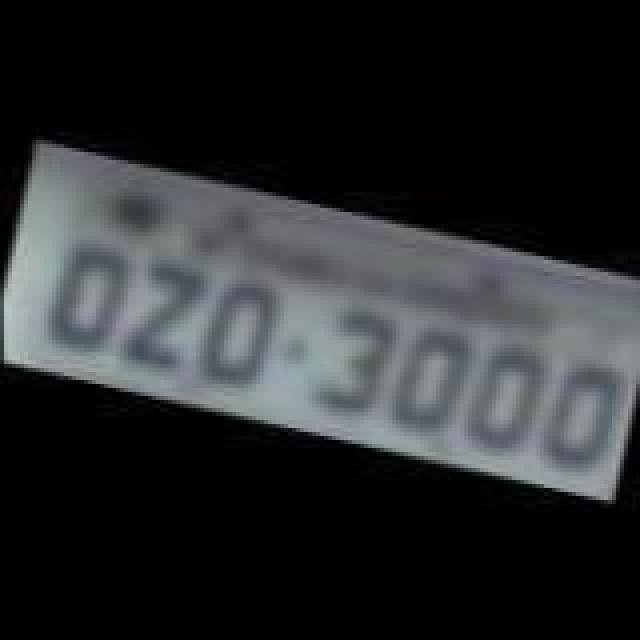3: (304, 298, 404, 422)
O: (30, 236, 134, 364), (456, 332, 560, 460), (376, 320, 480, 444), (524, 358, 628, 482), (186, 274, 290, 394)
Z: (110, 250, 214, 378)
